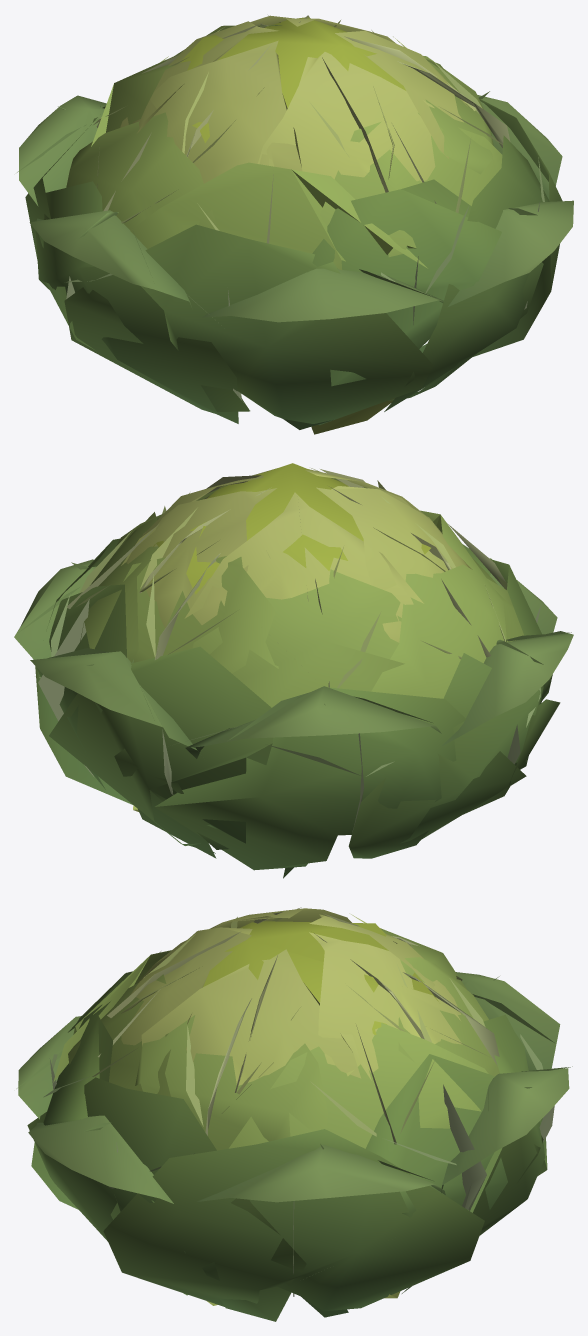
File: cabbage.glb
3 views of the same model, one above another, from view 1: azimuth 30°, elevation 25°; view 2: azimuth 150°, elevation 25°; view 3: azimuth 270°, elevation 25° (orthographic).
Visible parts, largest first — view 1: Plant; view 2: Plant; view 3: Plant.
Part boxes in pixels (x1=…): Plant: x1=17, y1=15, x2=573, y2=434; Plant: x1=14, y1=463, x2=573, y2=878; Plant: x1=16, y1=907, x2=572, y2=1321.
Size of the model in its own units: 0.3636 by 0.2751 by 0.3644.
